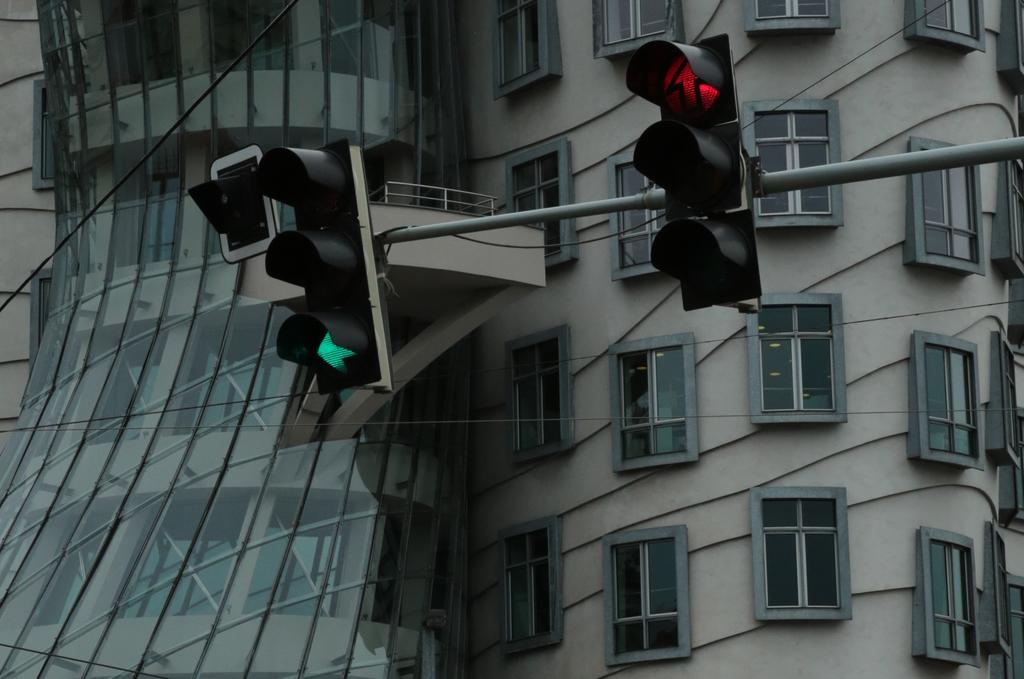green_light: (258, 138, 392, 397)
red_light: (625, 33, 762, 312)
